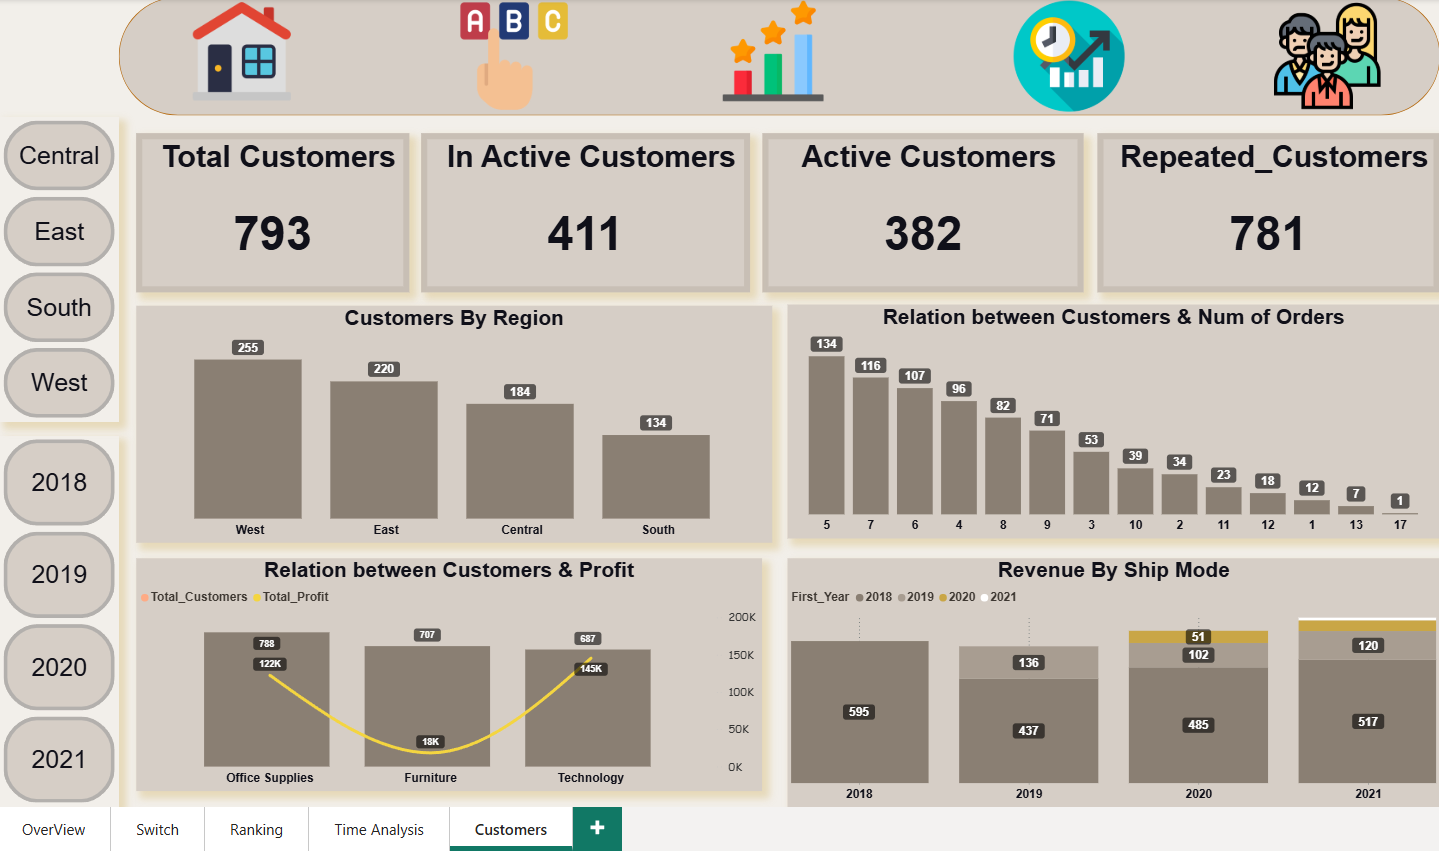

This screenshot's page, from the dashboard's own definition file:
{"tool":"powerbi","page":{"name":"Customers","canvas":[1920,1080],"ordinal":4},"visuals":[{"type":"card","title":"Active Customers","fields":{"Values":["Dax.Active_Customers"]},"box":[1016,182,428,212],"z":2000},{"type":"shape","box":[158,0,1762,158],"z":3000},{"type":"card","title":"In Active Customers","fields":{"Values":["Dax.In Active_Customers"]},"box":[562,182,438,212],"z":6000},{"type":"card","title":"Repeated_Customers","fields":{"Values":["Dax.Repeated_Customers"]},"box":[1464,182,456,212],"z":7000},{"type":"card","title":"Total Customers","fields":{"Values":["Dax.Total_Customers"]},"box":[182,182,364,212],"z":8000},{"type":"columnChart","title":"Revenue By Ship Mode","fields":{"Y":["Dax.Total_Customers"],"Category":["Calendar_Table.Year"],"Series":["Dim_Customer.First_Year"]},"box":[1050,748,870,332],"z":9000},{"type":"clusteredColumnChart","title":"Relation between Customers & Num of Orders","fields":{"Category":["Dim_Customer.Num_OfOrders"],"Y":["Dax.Total_Customers"]},"box":[1050,410,870,312],"z":10000},{"type":"clusteredColumnChart","title":"Customers By Region","fields":{"Category":["Dim_Customer.Region"],"Y":["Dax.Total_Customers"]},"box":[182,412,848,316],"z":11000},{"type":"lineStackedColumnComboChart","title":"Relation between Customers & Profit","fields":{"Category":["Dim_Product.Category"],"Y2":["Dax.Total_Profit"],"Y":["Dax.Total_Customers"]},"box":[182,748,834,310],"z":12000},{"type":"image","box":[230.7,0,184.2,144.8],"z":13000},{"type":"image","box":[606,0,158,158],"z":14000},{"type":"image","box":[1692,0,156,158],"z":15000},{"type":"image","box":[952,0,158,144],"z":16000},{"type":"image","box":[1346,0,158,158],"z":17000},{"type":"advancedSlicerVisual","fields":{"Values":["Dim_Customer.Region"]},"box":[0,160,158.3,406.7],"z":17001},{"type":"advancedSlicerVisual","fields":{"Values":["Calendar_Table.Year"]},"box":[0,585.7,158.6,494.3],"z":17002}]}

Visuals, with their boxes on the page's 1920x1080 design canvas (x1, y1, x2, y2). These are canvas units, not pixel positions in the 1439x851 screenshot, which may show the page scaled, cropped or inside an application window:
"Active Customers" card: (x1=1016, y1=182, x2=1444, y2=394)
shape: (x1=158, y1=0, x2=1920, y2=158)
"In Active Customers" card: (x1=562, y1=182, x2=1000, y2=394)
"Repeated_Customers" card: (x1=1464, y1=182, x2=1920, y2=394)
"Total Customers" card: (x1=182, y1=182, x2=546, y2=394)
"Revenue By Ship Mode" columnChart: (x1=1050, y1=748, x2=1920, y2=1080)
"Relation between Customers & Num of Orders" clusteredColumnChart: (x1=1050, y1=410, x2=1920, y2=722)
"Customers By Region" clusteredColumnChart: (x1=182, y1=412, x2=1030, y2=728)
"Relation between Customers & Profit" lineStackedColumnComboChart: (x1=182, y1=748, x2=1016, y2=1058)
image: (x1=231, y1=0, x2=415, y2=145)
image: (x1=606, y1=0, x2=764, y2=158)
image: (x1=1692, y1=0, x2=1848, y2=158)
image: (x1=952, y1=0, x2=1110, y2=144)
image: (x1=1346, y1=0, x2=1504, y2=158)
advancedSlicerVisual - Dim_Customer.Region: (x1=0, y1=160, x2=158, y2=567)
advancedSlicerVisual - Calendar_Table.Year: (x1=0, y1=586, x2=159, y2=1080)
